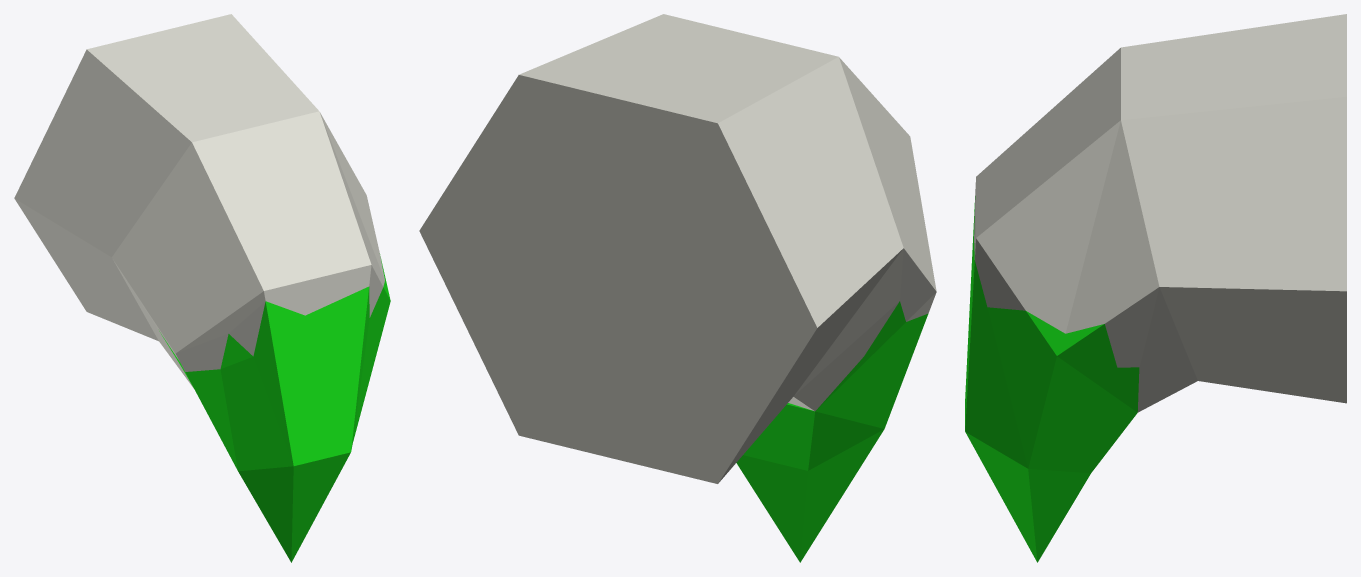
3 renders of one model, left to right at view 1: azimuth 30°, elevation 25°; view 2: azimuth 150°, elevation 25°; view 3: azimuth 270°, elevation 25°, orthographic. The views are drawn at different scales.
Parts seen in each view (by area): view 1: Cylinder002; view 2: Cylinder002; view 3: Cylinder002.
Part boxes in pixels (x1,y1,x2,y2): Cylinder002: [14, 14, 390, 562]; Cylinder002: [419, 14, 936, 562]; Cylinder002: [965, 14, 1346, 562].
Size of the model in its own units: 1.53 by 2.19 by 1.5.
